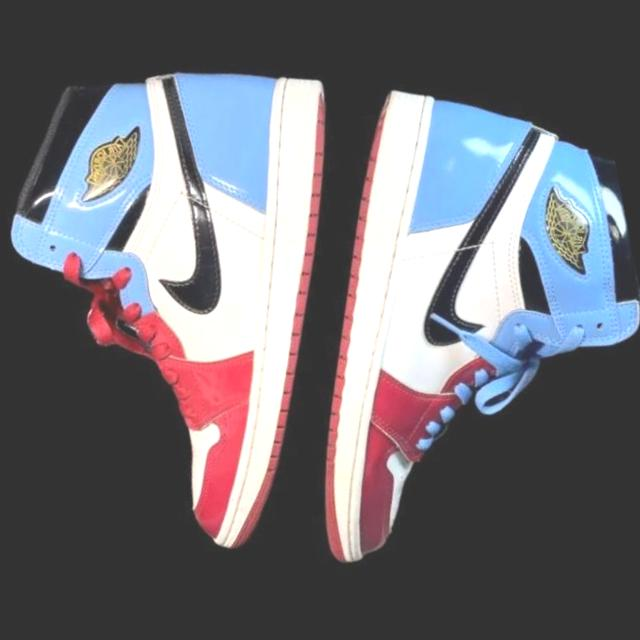nike_original_jordan: (0, 0, 425, 601), (217, 41, 640, 640)
